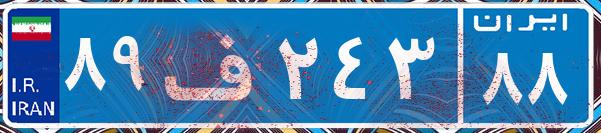2: (273, 28, 330, 110)
3: (385, 28, 445, 110)
4: (330, 28, 385, 110)
8: (57, 26, 110, 107), (475, 38, 525, 113), (525, 38, 570, 115)
9: (110, 28, 158, 105)
ف: (158, 15, 273, 115)
